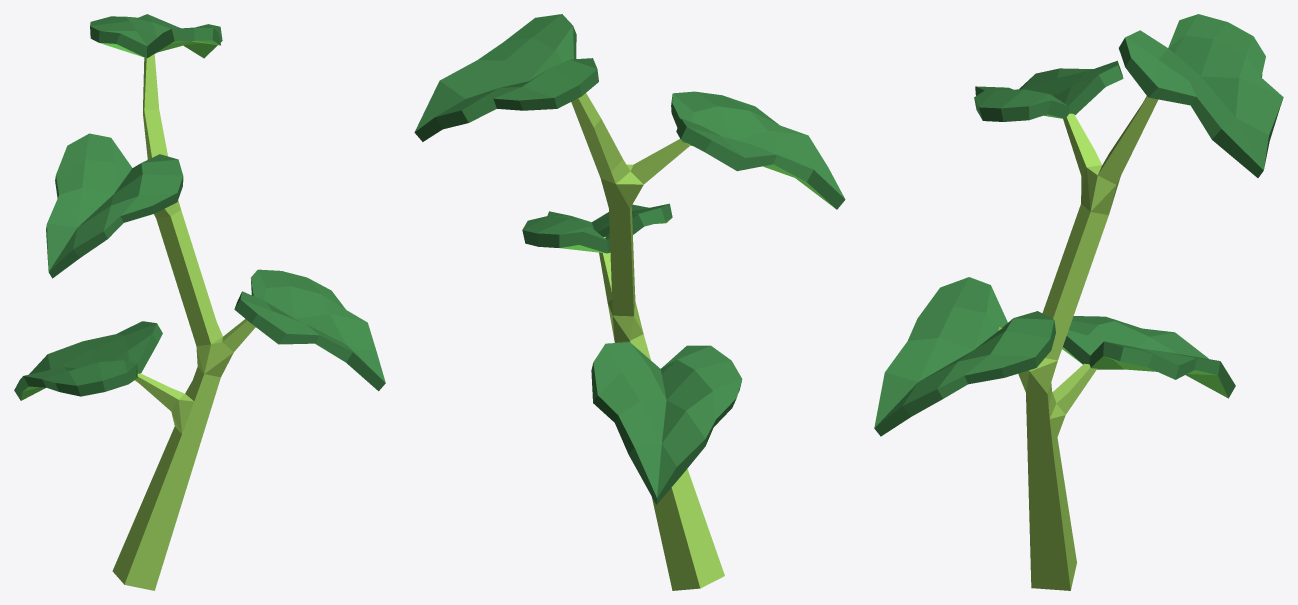
File: Cucumber_Growing_S.fbx
3 renders of one model, left to right at view 1: azimuth 30°, elevation 25°; view 2: azimuth 150°, elevation 25°; view 3: azimuth 270°, elevation 25°, orthographic. The views are drawn at different scales.
Parts seen in each view (by area): view 1: Cucumber_Growing_S; view 2: Cucumber_Growing_S; view 3: Cucumber_Growing_S.
Boxes of the visible parts, x1,y1,x2,y2 form: Cucumber_Growing_S: [14, 14, 385, 590]; Cucumber_Growing_S: [414, 14, 845, 590]; Cucumber_Growing_S: [874, 14, 1283, 590].
Bounding box in the file's own units: 9.36 × 15.75 × 9.81.
